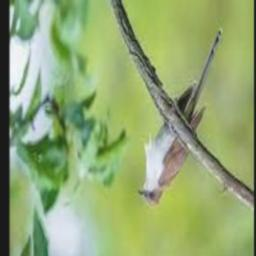Cuckoo: (138, 29, 223, 206)
